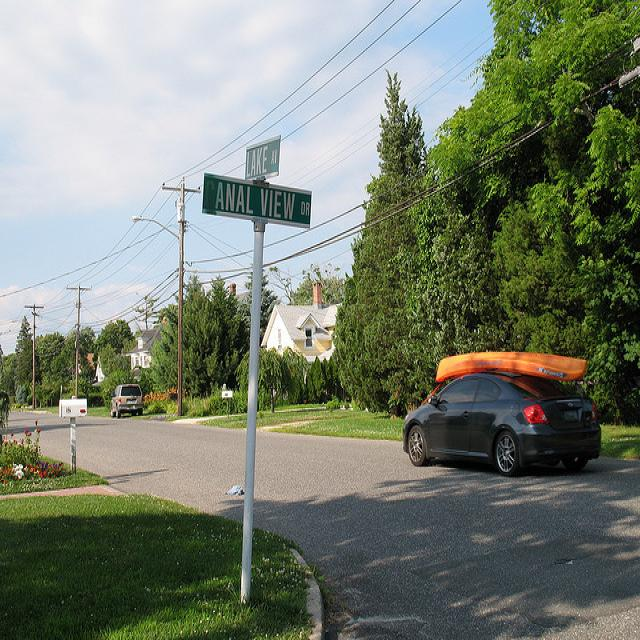Vehicle: (402, 372, 601, 476), (109, 383, 144, 418)
